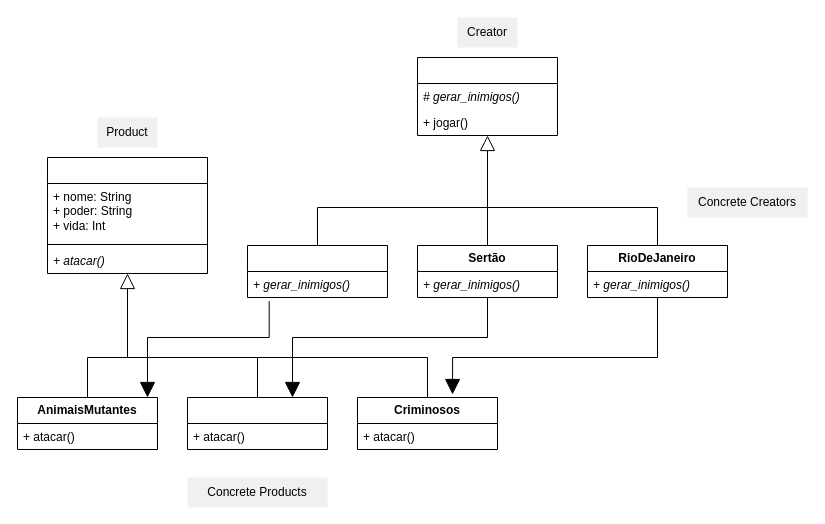
The diagram is 825 pixels wide and 524 high, and some of its shapes have lost their labels. The box of each missing label's shape, as (x1, y1, x2, y2) in pixels:
Amazonia: (246, 244, 388, 298)
Cangaceiros: (186, 396, 328, 450)
Inimigo: (46, 156, 208, 274)
LocalJogo: (416, 56, 558, 136)
